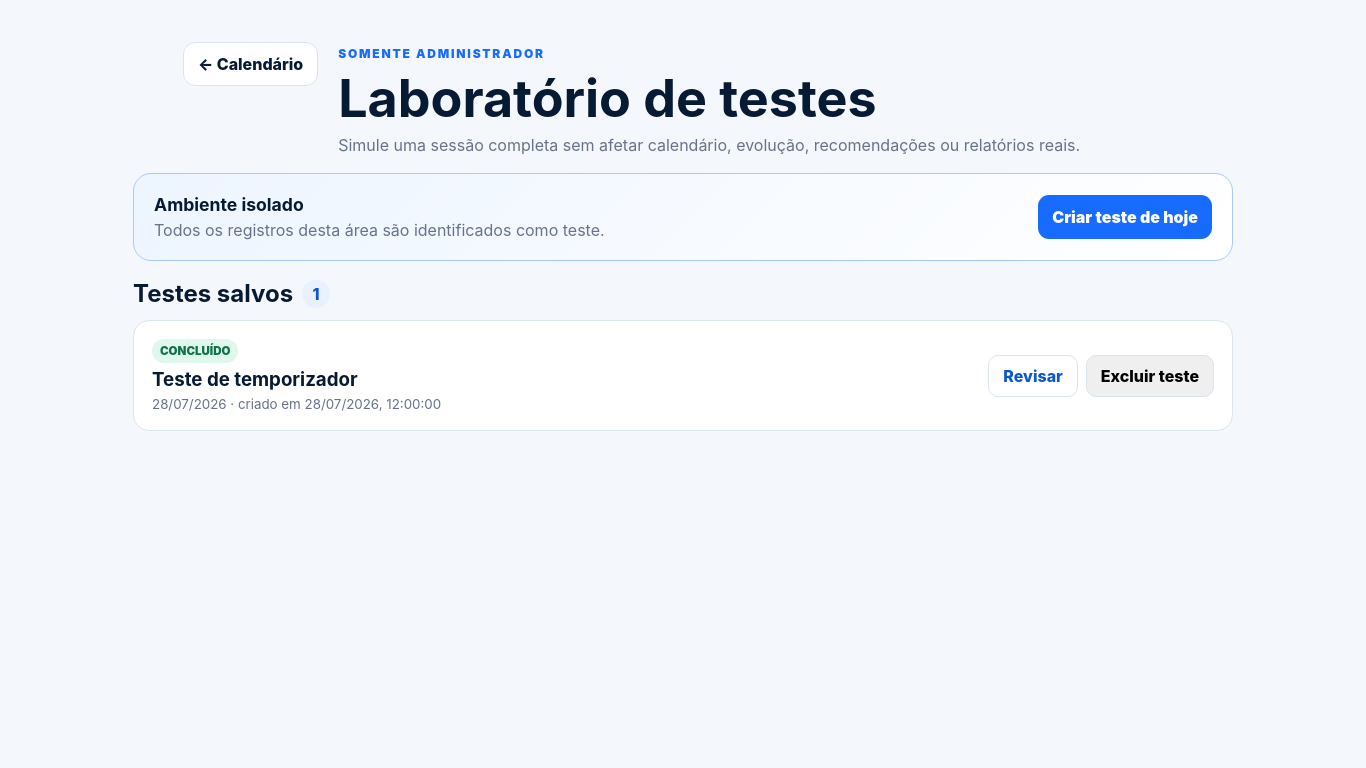
Test: laboratório administrativo › exige senha antes de excluir um teste
Click the button "Excluir teste" at (1150, 376), box [1086,354,1214,396]
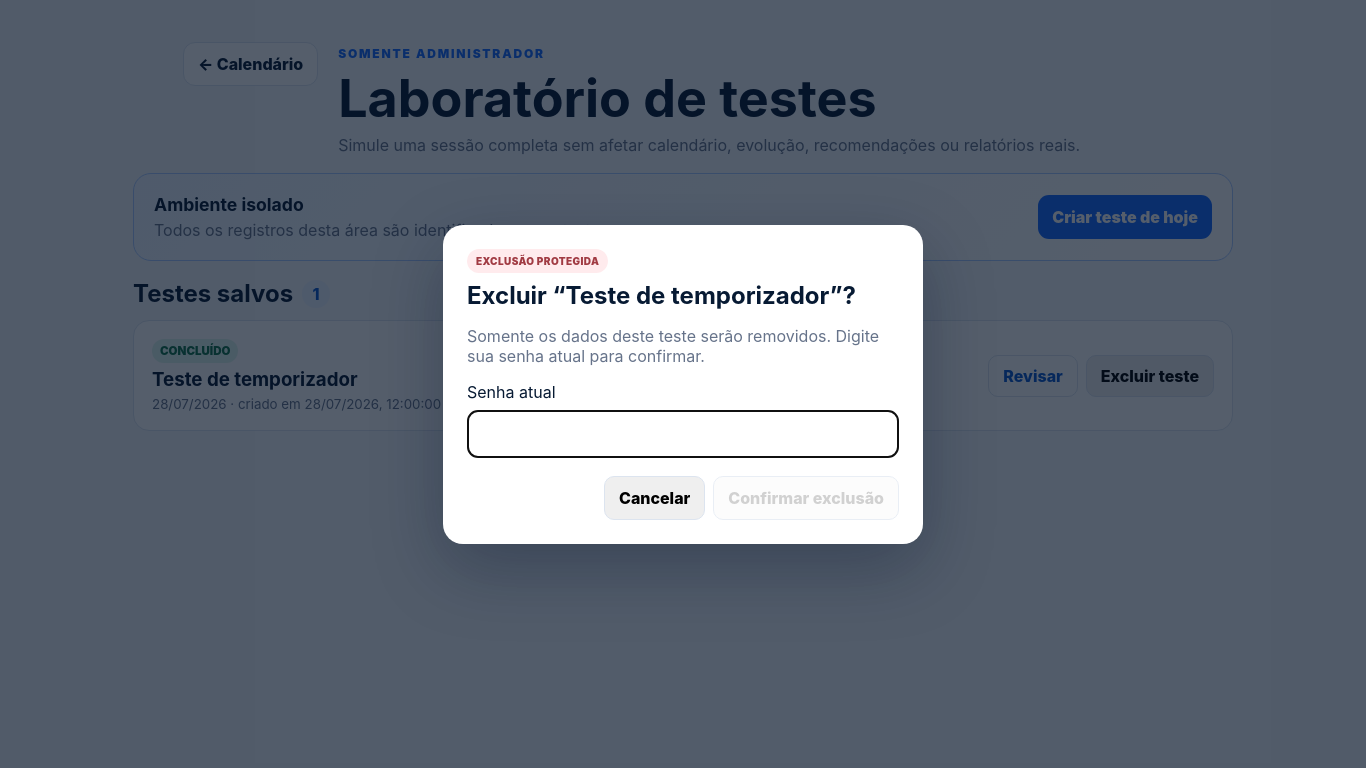
Check: the dialog is shown, box [443,224,923,544]
Type "senha-segura" into the password field labelled "Senha atual" at (683, 434), box [467,410,899,458]
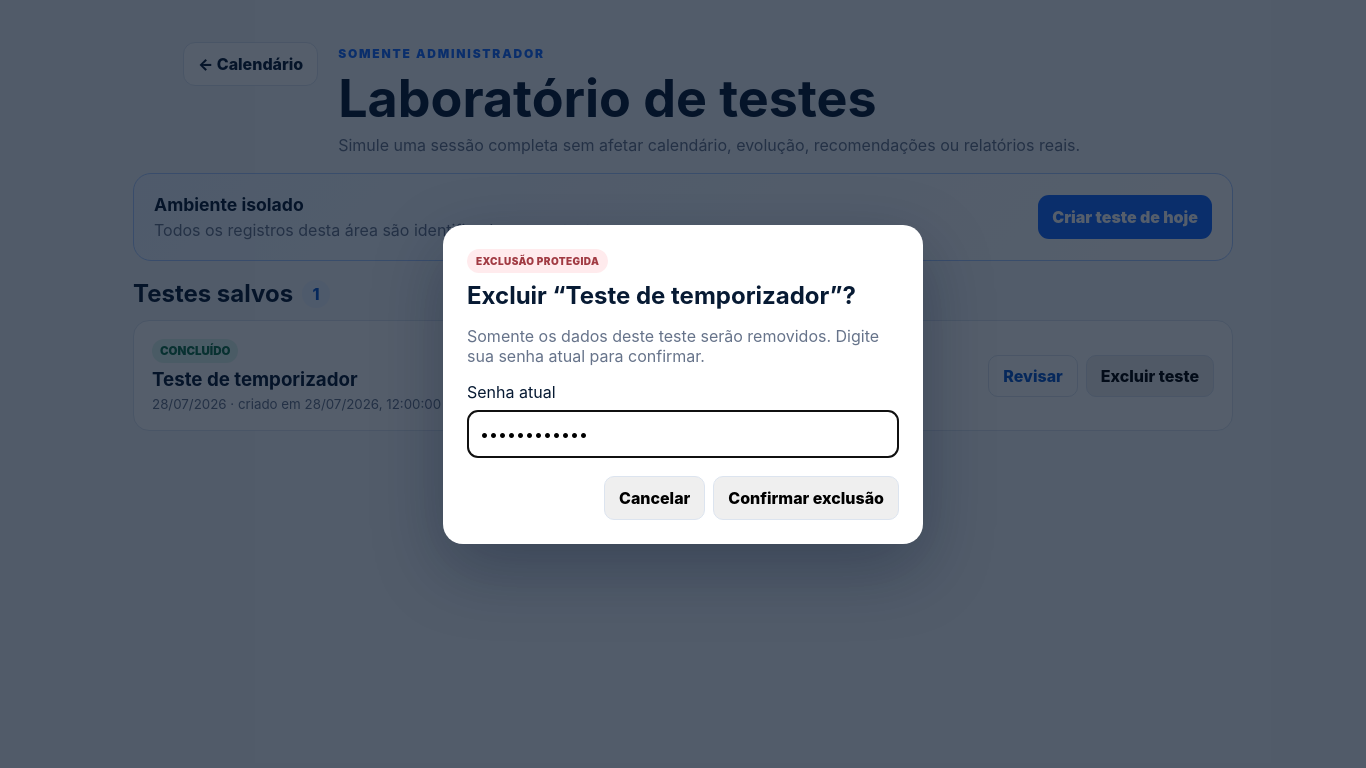
Click the button "Confirmar exclusão" at (806, 498), box [713,476,899,520]
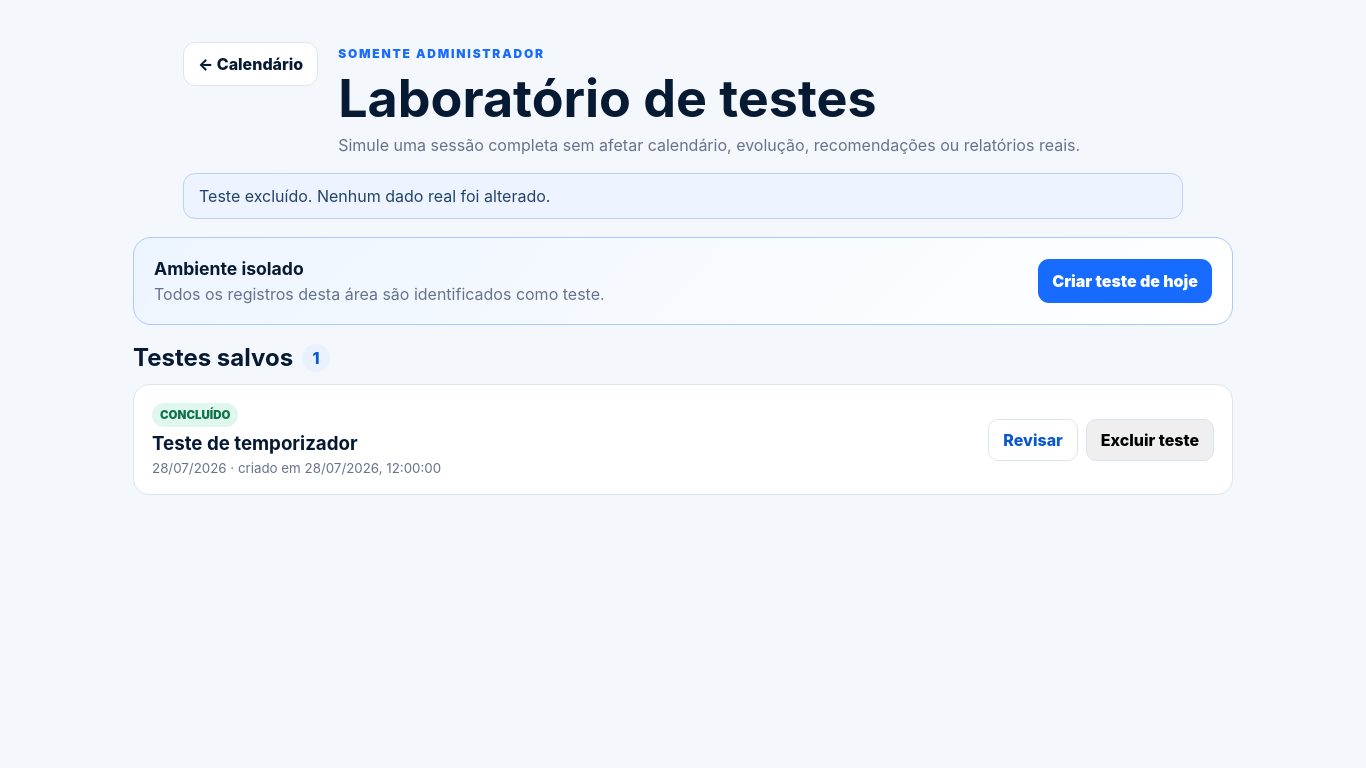
Check: the text "Teste excluído. Nenhum dado real foi alterado." is shown, box [183,173,1183,219]
